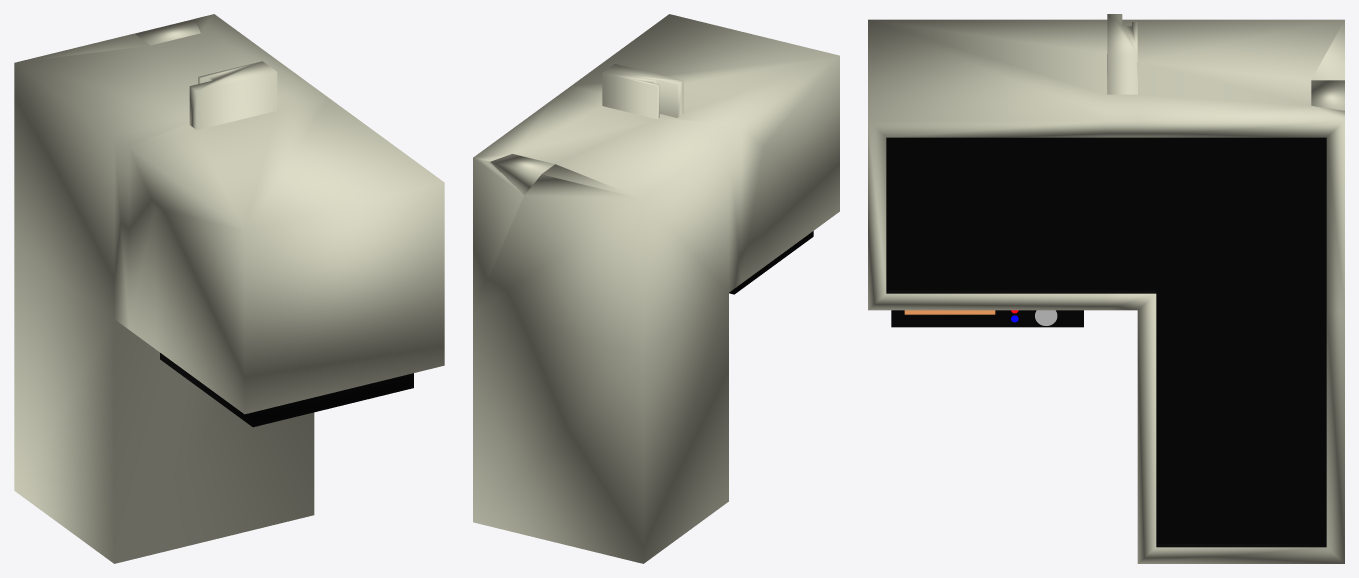
File: NEWLSHAPE.glb
3 views of the same model, side by side, from view 1: azimuth 30°, elevation 25°; view 2: azimuth 150°, elevation 25°; view 3: azimuth 270°, elevation 25° (orthographic). The views are drawn at different scales.
Visible parts, largest first — view 1: Cube.003; view 2: Cube.003; view 3: Cube.003, ScreenPanel, ScreenInfo.
Boxes of the visible parts, x1,y1,x2,y2 form: Cube.003: (14,14,444,563); Cube.003: (473,14,839,563); Cube.003: (868,14,1344,563); ScreenPanel: (1156,137,1326,543); ScreenInfo: (886,137,1156,290).
Size of the model in its own units: 0.32 by 0.7132 by 0.6381.
Materials: 7 (3 with a texture image).
